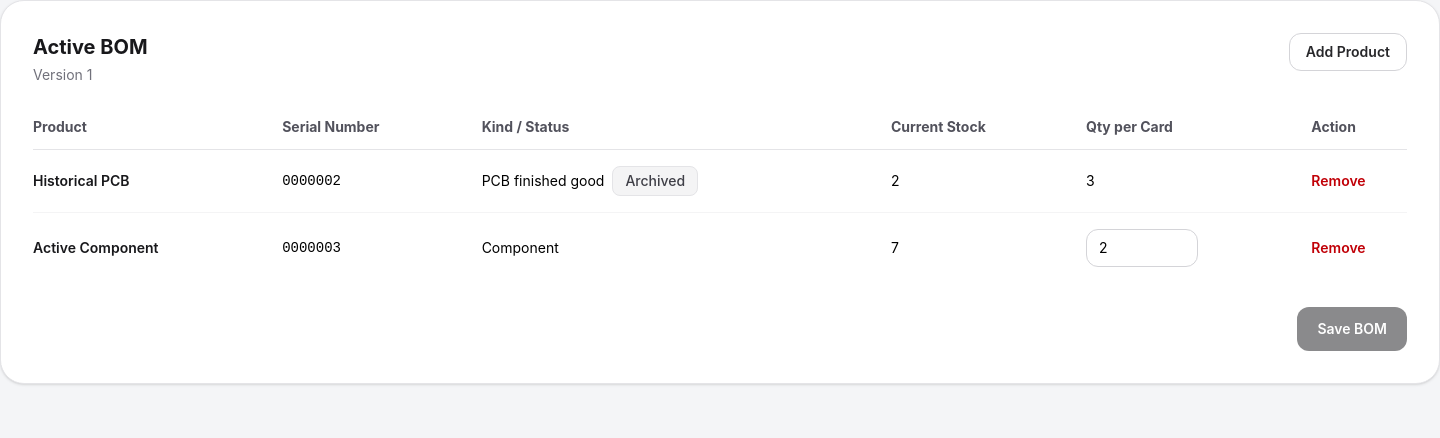
Test: PCB BOM editor › rejects invalid Qty per Card -2
Replace the text in the field named "Qty per Card for Active Component" with "-2": (1142, 248) [1086, 229, 1198, 267]
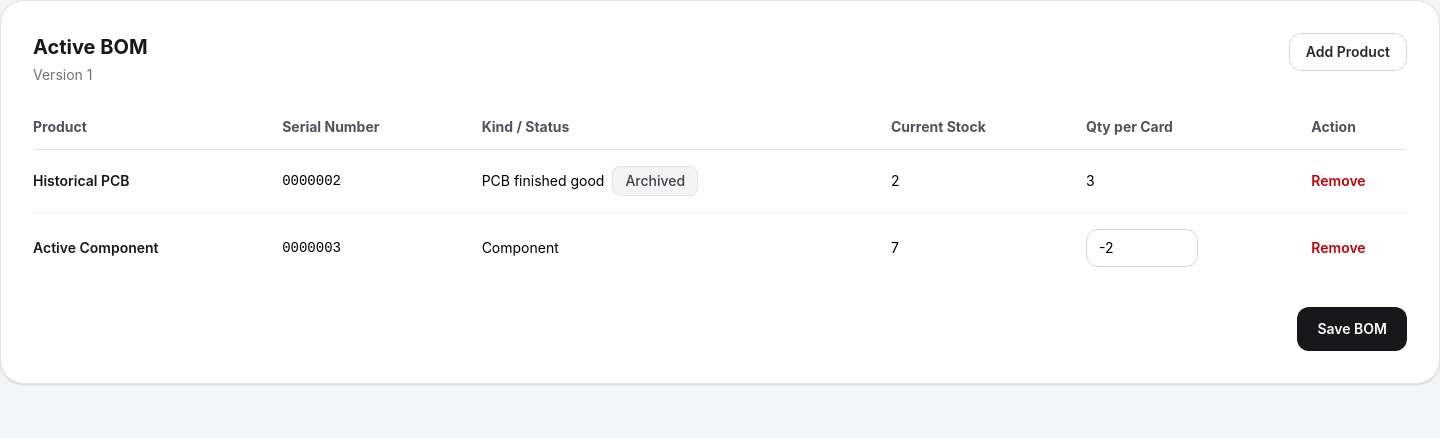
Click the button "Save BOM": (1352, 329) [1297, 307, 1407, 351]
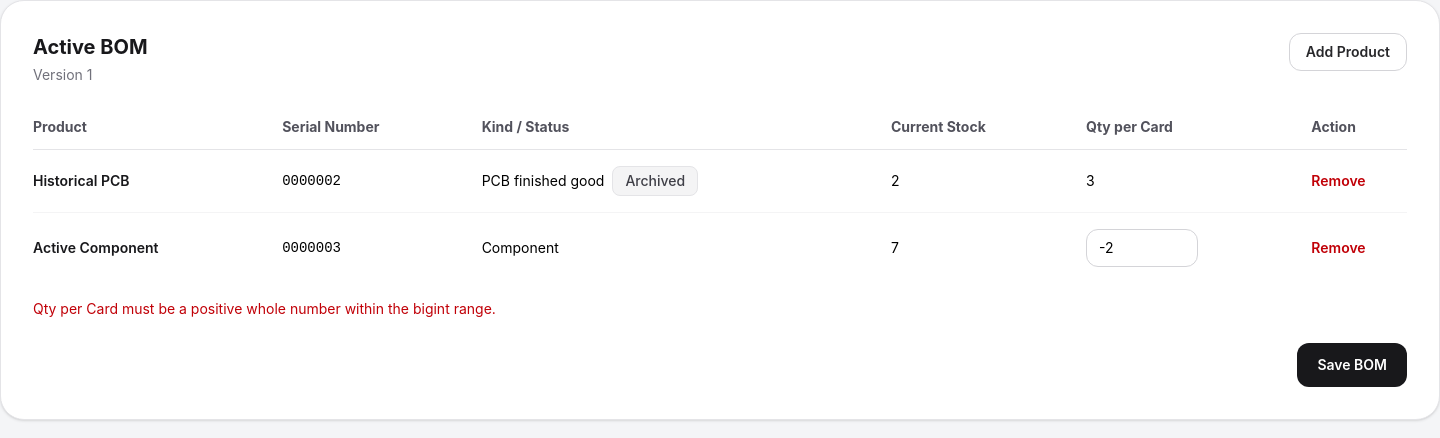
Now the message shows "positive whole number", box [33, 300, 496, 317]
